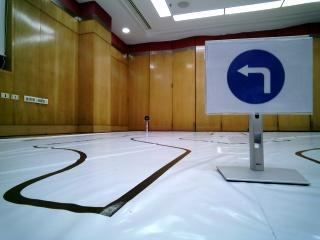left: (210, 43, 303, 111)
